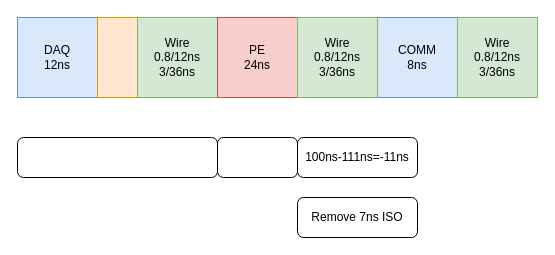
This 555x255 diagram has some shape labels left out. Each missing label, with the centre of its shape:
"111ns" goes at [257,157].
"3m->PE->0.8m->COMM->0.8" goes at [117,157].
"ISO 7ns" goes at [117,57].
